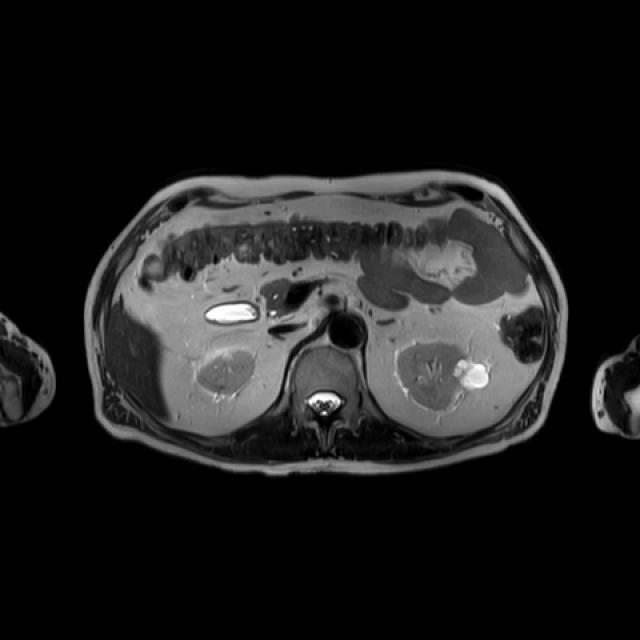sag: (195, 348, 259, 396)
sol: (397, 338, 489, 414)
